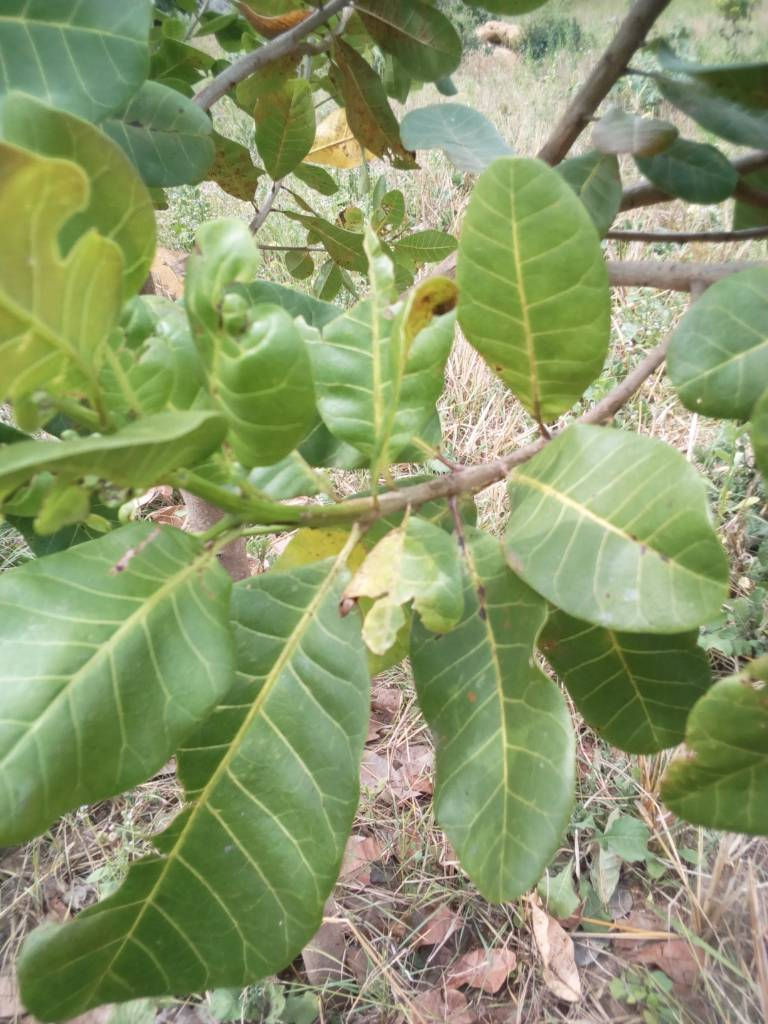Anoplocnemis curvipes: (349, 513, 463, 652)
